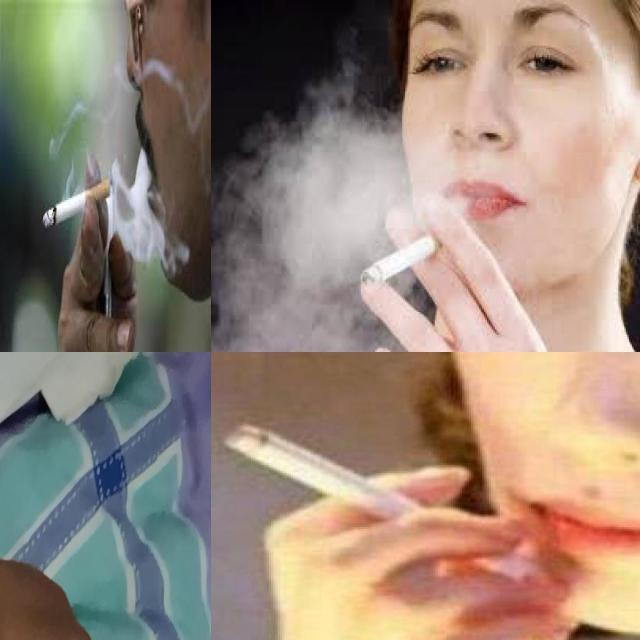smoking: (222, 424, 503, 571), (361, 230, 448, 288), (42, 180, 111, 230)
